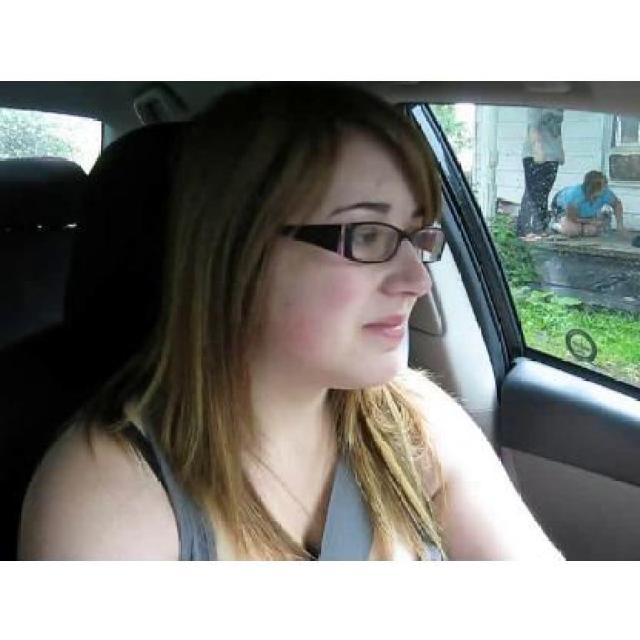attentif: (243, 82, 446, 388)
